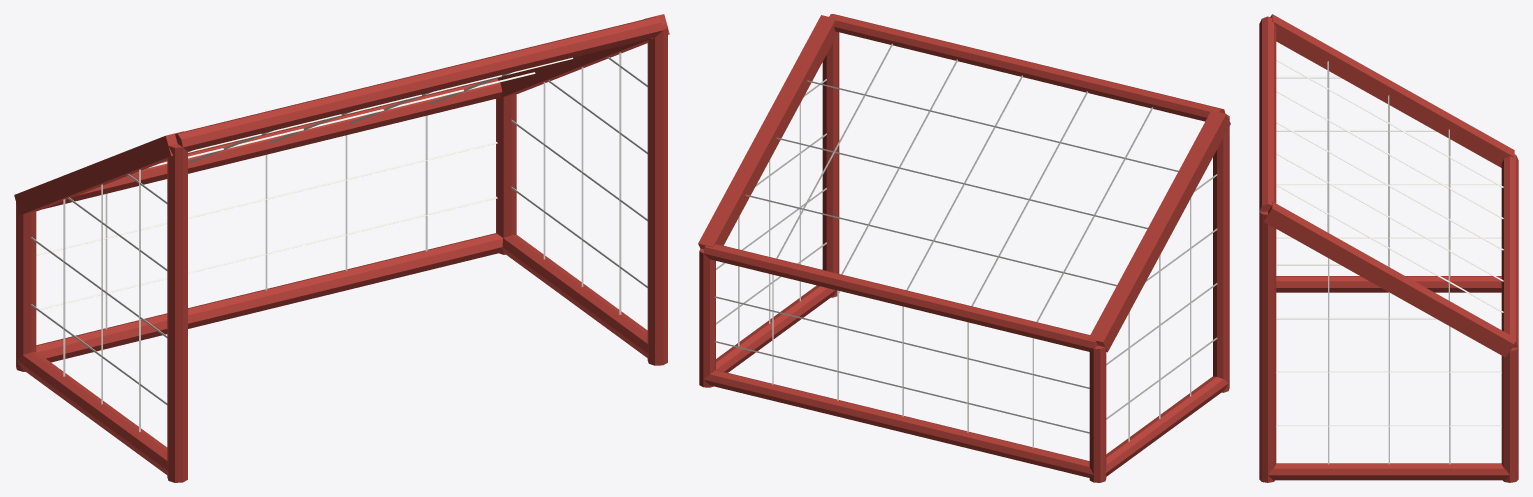
The model's file is GS_HockeyGoal_01.glb.
The picture shows the model from 3 angles, left to right: view 1: azimuth 30°, elevation 25°; view 2: azimuth 150°, elevation 25°; view 3: azimuth 270°, elevation 25°; orthographic projection. The views are drawn at different scales.
Visible parts, largest first — view 1: GS_HockeyGoal_01; view 2: GS_HockeyGoal_01; view 3: GS_HockeyGoal_01.
Boxes of the visible parts, x1,y1,x2,y2 form: GS_HockeyGoal_01: (14, 14, 669, 482); GS_HockeyGoal_01: (698, 14, 1230, 482); GS_HockeyGoal_01: (1259, 14, 1518, 482).
Size of the model in its own units: 1.9 by 1.25 by 1.07.
Materials: 1 (1 with a texture image).
